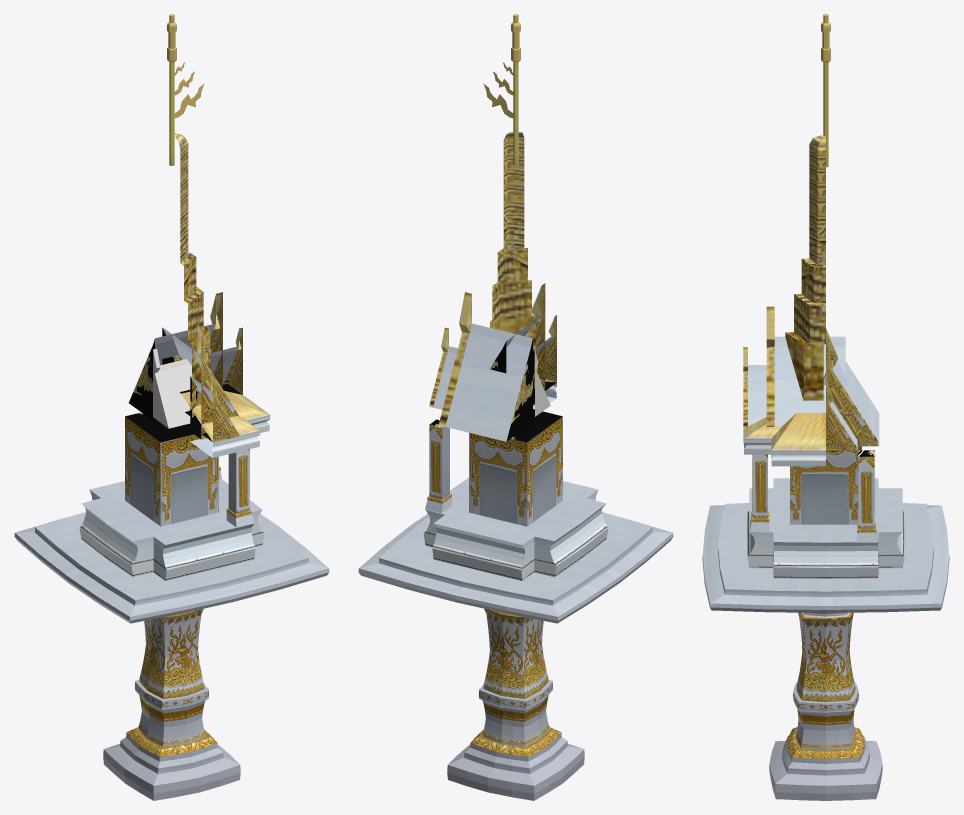
The model's file is spirit_house_1784488741208_model.glb.
3 views of the same model, side by side, from view 1: azimuth 30°, elevation 25°; view 2: azimuth 150°, elevation 25°; view 3: azimuth 270°, elevation 25° (orthographic).
Parts seen in each view (by area): view 1: Cube, Cube.006, Cylinder, Cube.003, Cube.009, Cube.008, Cube.004, Cube.001, Cube.005, Cube.007, Cylinder.001; view 2: Cube, Cube.009, Cube.006, Cylinder, Cube.002, Cube.004, Cube.007, Cube.005, Cylinder.001; view 3: Cube, Cylinder, Cube.006, Cube.004, Cube.003, Cube.009, Cube.002, Cube.005, Cube.001, Cube.007, Cylinder.001.
Boxes of the visible parts, x1,y1,x2,y2 form: Cube: (14,479,329,800); Cube.006: (125,412,218,526); Cylinder: (173,133,210,417); Cube.003: (180,389,270,457); Cube.009: (129,292,222,421); Cube.008: (153,348,191,428); Cube.004: (162,323,239,439); Cube.001: (226,449,253,527); Cube.005: (190,373,239,442); Cube.007: (210,327,242,394); Cylinder.001: (169,62,174,165); Cube: (358,477,673,800); Cube.009: (438,292,532,441); Cube.006: (469,409,562,526); Cylinder: (490,132,535,390); Cube.002: (425,419,451,513); Cube.004: (489,283,545,405); Cube.007: (429,327,457,409); Cube.005: (533,315,556,398); Cylinder.001: (513,62,518,165); Cube: (702,478,949,800); Cylinder: (785,135,825,400); Cube.006: (790,446,861,524); Cube.004: (766,306,845,426); Cube.003: (743,413,825,466); Cube.009: (826,329,879,446); Cube.002: (857,450,877,542); Cube.005: (743,347,766,428); Cube.001: (750,454,769,531); Cube.007: (826,381,857,450); Cylinder.001: (823,62,828,167).
Size of the model in its own units: 1.68 by 5.79 by 1.7.
1 material, 1 textured.
